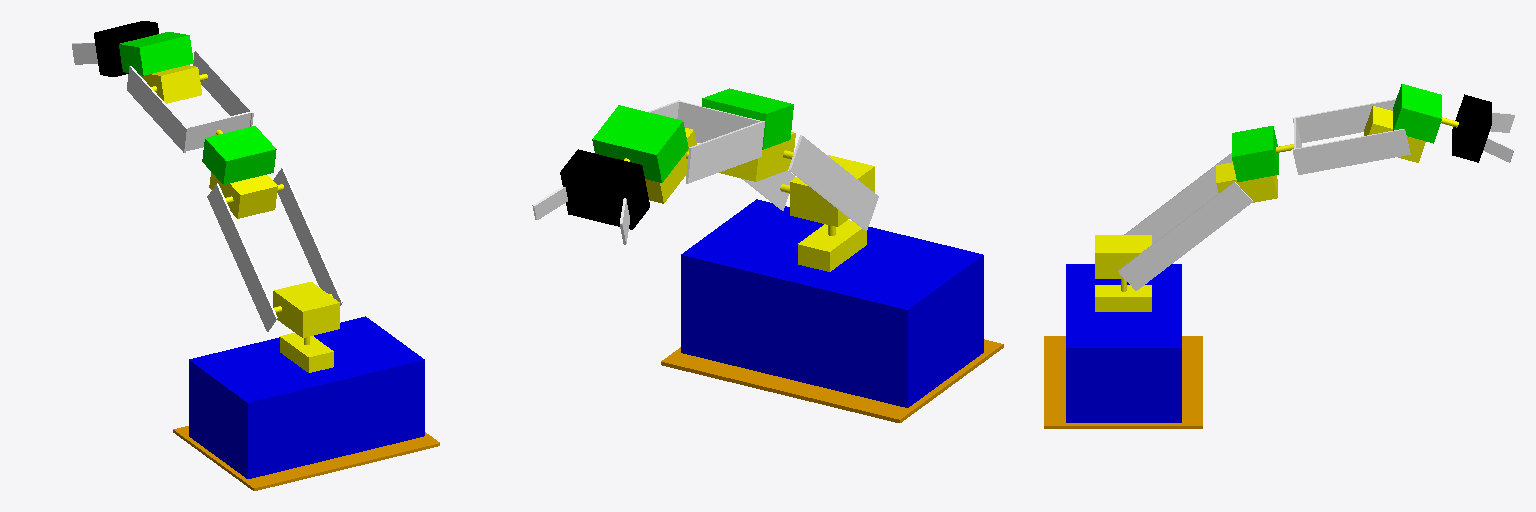
The robot description file, URDF, robot "six_arm":
<?xml version="1.0"?>
<robot name="six_arm"> 
<!--creat baselink-->
  <link name="base_link">
    <visual>
      <geometry>
        <box size="0.20 .15 .003"/>
      </geometry>
    </visual>
  </link>

<!--add dody-->
  <link name="body">
    <visual>
      <geometry>
       <box size="0.19 .11 .08"/>
      </geometry>
      <material name="blue">
          <color rgba="0 0 255 0.8"/>
      </material>  
    </visual>
  </link>  

  <joint name="base_to_body" type="fixed">
    <parent link="base_link"/>
    <child link="body"/>
    <origin xyz="0.0 0.0 0.04"/>
  </joint> 

<!-- shoulder stevo  XY -->
  <link name="shoulder_stevo">
    <visual>
      <geometry>
       <box size="0.054 .0403 .027"/>
      </geometry>
      <material name="black">
          <color rgba="1 1 0 1"/>
      </material>  
    </visual>
  </link> 

 <joint name="body_to_left_shoulder_stevo" type="fixed">
    <parent link="body"/>
    <child link="shoulder_stevo"/>
    <!--origin rpy="1.57075 0 1.57075" xyz="0.04 0.035 0.026"/ -->
    <origin rpy="1.57075 0 1.57075" xyz="0 0 0.036"/>
    <!-- origin rpy="1.57075 0 0" xyz="0.0 0.0 0.026" -->
 </joint>  

<!-- shoulder stevo axis XY -->
  <link name="shoulder_stevo_axis">
    <visual>
      <geometry>
       <cylinder length=".04" radius="0.0029"></cylinder>
      </geometry>
      <material name="yellow">
          <color rgba="1 1 0 1"/>
      </material>  
    </visual>
  </link>

  <joint name="shoulder_stevo_to_axis" type="revolute">
    <axis xyz="0 0 1"/> 
    <parent link="shoulder_stevo"/>
    <child link="shoulder_stevo_axis"/>
    <origin rpy="1.57075 0 0" xyz="0.0 0.027 0.0"/>
    <limit effort="100" velocity="100" lower="0" upper="3.1415926"/> 
    <joint_properties damping="0.0" friction="0.0"/>
  </joint>  

 <!-- shoulder stevo lift  XZ-->
  <link name="shoulder_stevo_lift">
    <visual>
      <geometry>
       <box size="0.054 .0403 .027"/>
      </geometry>
      <material name="black">
          <color rgba="1 1 0 1"/>
      </material>  
    </visual>
  </link> 

  <joint name="shoulder_stevo_axis_to_lift_stevo" type="fixed">
    <parent link="shoulder_stevo_axis"/>
    <child link="shoulder_stevo_lift"/>
    <!-- origin xyz="0.0 -0.01015 -0.028"/ -->
   <origin xyz="0 0 -0.028"/>
  </joint>

 <!-- shoulder stevo lift  axis XZ-->
  <link name="shoulder_stevo_lift_axis">
    <visual>
      <geometry>
       <cylinder length=".0704" radius="0.0029"></cylinder>
      </geometry>
      <material name="yellow">
          <color rgba="1 1 0 1"/>
      </material>  
    </visual>
  </link>

  <joint name="shoulder_stevo_lift_to_axis" type="continuous">
    <axis xyz="0 0 1"/> 
    <parent link="shoulder_stevo_lift"/>
    <child link="shoulder_stevo_lift_axis"/>
    <origin rpy="1.57075 0.7 0" xyz="0.0135 0.0 0.0"/>
    <limit effort="100" velocity="100"/> 
    <joint_properties damping="0.0" friction="0.0"/>
  </joint>     

<!-- big arm -->
  <!-- eft side-->
  <link name="big_arm_up">
    <visual>
      <geometry>
       <box size="0.145 .027 .002"/>
      </geometry>
      <material name="sliver">
          <color rgba="223 223 223 1"/>
      </material>  
    </visual>
  </link> 

 <joint name="shoulder_stevo_lift_axis_to_left_big_arm" type="fixed">
    <parent link="shoulder_stevo_lift_axis"/>
    <child link="big_arm_up"/>
    <!-- origin xyz="0.059 0.0 -0.035"/ -->
    <origin rpy="0 0 0" xyz="0.059 0.0 -0.035"/>
  </joint>  

 <!-- right side-->
  <link name="big_arm_down">
    <visual>
      <geometry>
       <box size="0.145 .027 .002"/>
      </geometry>
      <material name="sliver">
          <color rgba="223 223 223 1"/>
      </material>  
    </visual>
  </link> 

 <joint name="big_arm_up_to_left_big_arm_down" type="fixed">
    <parent link="big_arm_up"/>
    <child link="big_arm_down"/>
    <origin xyz="0.0 0.0 0.07"/>
  </joint>   


<!-- arm stevo-->

  <link name="arm_stevo_axis">
    <visual>
      <geometry>
       <cylinder length=".0704" radius="0.0029"></cylinder>
      </geometry>
      <material name="yellow">
          <color rgba="1 1 0 1"/>
      </material>  
    </visual>
  </link>

  <joint name="big_arm_up_to_axis" type="revolute">
    <axis xyz="0 0 1"/> 
    <parent link="big_arm_up"/>
    <child link="arm_stevo_axis"/>
    <origin rpy="0 0 0.5" xyz="0.059 0.0 0.0352"/>
    <limit effort="100" velocity="100" lower="0" upper="3.1415926"/> 
    <joint_properties damping="0.0" friction="0.0"/>
  </joint>  

  <link name="arm_stevo">
    <visual>
      <geometry>
       <box size="0.054 .027 .0403"/>
      </geometry>
      <material name="black">
          <color rgba="1 1 0 1"/>
      </material>  
    </visual>
  </link> 

 <joint name="big_arm_up_to_axis_to_arm_stevo" type="fixed">
    <parent link="arm_stevo_axis"/>
    <child link="arm_stevo"/>
    <origin xyz="0.0135 0.0 0.0"/>
  </joint>  

<!-- small arm -->



 <!-- small arm stering servo-->
   <link name="small_arm_run_stevo">
    <visual>
      <geometry>
       <box size="0.054 .027 .0403"/>
      </geometry>
      <material name="green">
          <color rgba="0 255 0 1 "/>
      </material>  
    </visual>
  </link> 

 <joint name="arm_stevo_to_arm_run_stevo" type="fixed">
    <parent link="arm_stevo"/>
    <child link="small_arm_run_stevo"/>
    <origin rpy="0 1.57075 0" xyz="0.0135 -0.027 0.0"/>
  </joint>   

  <link name="small_arm_run_stevo_axis">
    <visual>
      <geometry>
       <cylinder length=".04" radius="0.0029"></cylinder>
      </geometry>
      <material name="yellow">
          <color rgba="1 1 0 1"/>
      </material>  
    </visual>
  </link>

  <joint name="small_arm_run_stevo_to_axis" type="revolute">
    <axis xyz="0 0 1"/> 
    <parent link="small_arm_run_stevo"/>
    <child link="small_arm_run_stevo_axis"/>
    <!-- origin rpy="0 0 0" xyz="0.0135 0 0.020"/ -->
    <origin rpy="0 0 0" xyz="0 0 0.020"/>
    <limit effort="100" velocity="100" lower="0" upper="3.1415926"/> 
    <joint_properties damping="0.0" friction="0.0"/>
  </joint> 





 <!-- left side-->
  <link name="small_arm_up">
    <visual>
      <geometry>
       <box size="0.10875 .027 .002"/>
      </geometry>
      <material name="sliver">
          <color rgba="223 223 223 1"/>
      </material>  
    </visual>
  </link> 

 <joint name="arm_run_stevo_axis_to_left_small_arm_up" type="fixed">
    <parent link="small_arm_run_stevo_axis"/>
    <child link="small_arm_up"/>
    <!-- origin rpy="0 -1.57075 0" xyz="0.073 0.0 -0.035"/ -->
    <origin rpy="0 -1.57075 0" xyz="0.035 0 0.073"/>
  </joint>  

  <!-- right side-->
  <link name="small_arm_down">
    <visual>
      <geometry>
       <box size="0.10875 .027 .002"/>
      </geometry>
      <material name="sliver">
          <color rgba="223 223 223 1"/>
      </material>  
    </visual>
  </link> 

 <joint name="small_arm_up_to_small_arm_down" type="fixed">
    <parent link="small_arm_up"/>
    <child link="small_arm_down"/>
    <origin xyz="0.0 0.0 0.07"/>
  </joint>  

 <!-- middle side-->
  <link name="small_arm_middle">
    <visual>
      <geometry>
       <box size="0.07 .027 .002"/>
      </geometry>
      <material name="sliver">
          <color rgba="223 223 223 1"/>
      </material>  
    </visual>
  </link> 

 <joint name="small_arm_up_to_small_arm_middle" type="fixed">
    <parent link="small_arm_up"/>
    <child link="small_arm_middle"/>
    <origin rpy="0 1.57075 0" xyz="-0.052 0.0 0.035"/>
  </joint> 

<!--wrist stevo-->
  <link name="wrist_stevo_axis">
    <visual>
      <geometry>
       <cylinder length=".0704" radius="0.0029"></cylinder>
      </geometry>
      <material name="yellow">
          <color rgba="1 1 0 1"/>
      </material>  
    </visual>
  </link>

  <joint name="small_arm_up_to_axis" type="revolute">
    <axis xyz="0 0 1"/> 
    <parent link="small_arm_up"/>
    <child link="wrist_stevo_axis"/>
    <origin rpy="0 0 0.5" xyz="0.0295 0.0 0.0352"/>
    <limit effort="100" velocity="100" lower="0" upper="3.1415926"/> 
    <joint_properties damping="0.0" friction="0.0"/>
  </joint>  

  <link name="wrist_stevo">
    <visual>
      <geometry>
       <box size="0.054 .027 .0403"/>
      </geometry>
      <material name="black">
          <color rgba="1 1 0 1"/>
      </material>  
    </visual>
  </link> 

 <joint name="small_arm_up_to_axis_to_axis_stevo" type="fixed">
    <parent link="wrist_stevo_axis"/>
    <child link="wrist_stevo"/>
    <origin xyz="0.0135 0.0 0.0"/>
  </joint> 

<!--wrist stering stevo-->
  <link name="wrist_run_stevo">
    <visual>
      <geometry>
       <box size="0.054 .027 .0403"/>
      </geometry>
      <material name="green">
          <color rgba="0 255 0 1 "/>
      </material>  
    </visual>
  </link> 

 <joint name="wrist_stevo_to_wrist_run_stevo" type="fixed">
    <parent link="wrist_stevo"/>
    <child link="wrist_run_stevo"/>
    <origin rpy="0 1.57075 0" xyz="0.0135 -0.027 0.0"/>
  </joint>   

  <link name="wrist_run_stevo_axis">
    <visual>
      <geometry>
       <cylinder length=".04" radius="0.0029"></cylinder>
      </geometry>
      <material name="yellow">
          <color rgba="1 1 0 1"/>
      </material>  
    </visual>
  </link>

  <joint name="wrist_run_stevo_to_axis" type="revolute">
    <axis xyz="0 0 1"/> 
    <parent link="wrist_run_stevo"/>
    <child link="wrist_run_stevo_axis"/>
    <!-- origin rpy="0 0 0" xyz="0.0135 0 0.020"/ -->
    <origin rpy="0 0 0" xyz="0 0 0.020"/>
    <limit effort="100" velocity="100" lower="0" upper="3.1415926"/> 
    <joint_properties damping="0.0" friction="0.0"/>
  </joint> 

<!-- hand run stevo -->
  <link name="hand_run_stevo">
    <visual>
      <geometry>
       <box size="0.054 .027 .0403"/>
      </geometry>
      <material name="black">
          <color rgba="0 0 0 1 "/>
      </material>  
    </visual>
  </link> 

 <joint name="wrist_run_stevo_axis_to_hand_run_stevo" type="fixed">
    <parent link="wrist_run_stevo_axis"/>
    <child link="hand_run_stevo"/>
    <origin rpy="1.57075 0 0" xyz="0.0 0.0 0.0335"/>
  </joint>  

 <link name="hand_run_stevo_axis">
    <visual>
      <geometry>
       <cylinder length=".04" radius="0.0029"></cylinder>
      </geometry>
      <material name="yellow">
          <color rgba="1 1 0 1"/>
      </material>  
    </visual>
  </link>

  <joint name="hand_run_stevo_to_hand_run_stevo_axis" type="revolute">
    <axis xyz="0 0 1"/> 
    <parent link="hand_run_stevo"/>
    <child link="hand_run_stevo_axis"/>
    <origin rpy="0 0 -0.4" xyz="0.02 0 0"/>
    <limit effort="100" velocity="100" lower="0" upper="0.8285"/> 
    <joint_properties damping="0.0" friction="0.0"/>
  </joint>    


 <link name="hand_run_stevo_axis_two">
    <visual>
      <geometry>
       <cylinder length=".04" radius="0.0029"></cylinder>
      </geometry>
      <material name="yellow">
          <color rgba="1 1 0 1"/>
      </material>  
    </visual>
  </link>

  <joint name="hand_run_stevo_to_hand_run_stevo_axis_two" type="revolute">
    <axis xyz="0 0 1"/> 
    <parent link="hand_run_stevo"/>
    <child link="hand_run_stevo_axis_two"/>
    <!-- origin rpy="0 0 0" xyz="0.0135 0 0.0135"/ -->
    <origin rpy="0 0 0.4" xyz="-0.02 0 0"/>
    <limit effort="100" velocity="100" lower="-0.8285" upper="0"/> 
    <joint_properties damping="0.0" friction="0.0"/>
  </joint>    




<!--finger-->
  <link name="finger1">
    <visual>
      <geometry>
       <box size="0.045 .0135 .002"/>
      </geometry>
      <material name="sliver">
          <color rgba="223 223 223 1"/>
      </material>  
    </visual>
  </link> 

 <joint name="hand_run_stevo_axis_to_finger1" type="fixed">
    <parent link="hand_run_stevo_axis"/>
    <child link="finger1"/>
    <origin rpy="1.57075 0 1.57075" xyz="0 0.021 0"/>
  </joint> 

  <link name="finger2">
    <visual>
      <geometry>
       <box size="0.045 .02 .002"/>
      </geometry>
      <material name="sliver">
          <color rgba="223 223 223 1"/>
      </material>  
    </visual>
  </link> 

 <joint name="hand_run_stevo_axis_two_to_finger2" type="fixed">
    <parent link="hand_run_stevo_axis_two"/>
    <child link="finger2"/>
    <origin rpy="1.57075 0 1.57075" xyz="0 0.021 0"/>
  </joint> 

</robot>

--- Render facts (derived) ---
3 views of the same robot in one strip: view 1: azimuth 30°, elevation 25°; view 2: azimuth 150°, elevation 25°; view 3: azimuth 270°, elevation 25° (orthographic).
Model six_arm with 24 links and 23 joints (7 revolute, 1 continuous, 15 fixed), rooted at base_link, posed all joints at 0.
Visible links, largest first — view 1: body, small_arm_run_stevo, base_link, shoulder_stevo_lift, wrist_run_stevo, big_arm_down, big_arm_up, arm_stevo, hand_run_stevo, small_arm_down, wrist_stevo, shoulder_stevo (+2 smaller); view 2: body, base_link, hand_run_stevo, wrist_run_stevo, big_arm_down, small_arm_down, small_arm_run_stevo, shoulder_stevo, shoulder_stevo_lift, small_arm_middle, arm_stevo, wrist_stevo (+2 smaller); view 3: body, base_link, big_arm_up, small_arm_up, big_arm_down, wrist_run_stevo, small_arm_run_stevo, small_arm_down, hand_run_stevo, shoulder_stevo_lift, shoulder_stevo, arm_stevo (+1 smaller).
Boxes of the visible links, <box> form: body: <box>189,316,424,478</box>; small_arm_run_stevo: <box>202,126,276,184</box>; base_link: <box>173,426,439,490</box>; shoulder_stevo_lift: <box>273,282,339,337</box>; wrist_run_stevo: <box>119,32,193,75</box>; big_arm_down: <box>207,183,277,331</box>; big_arm_up: <box>273,167,342,305</box>; arm_stevo: <box>209,172,277,218</box>; hand_run_stevo: <box>94,21,158,76</box>; small_arm_down: <box>127,66,188,152</box>; wrist_stevo: <box>140,65,201,103</box>; shoulder_stevo: <box>280,333,333,372</box>; body: <box>681,199,983,407</box>; base_link: <box>661,339,1003,422</box>; hand_run_stevo: <box>560,149,649,229</box>; wrist_run_stevo: <box>592,105,688,182</box>; big_arm_down: <box>788,135,878,230</box>; small_arm_down: <box>686,121,764,183</box>; small_arm_run_stevo: <box>702,88,793,149</box>; shoulder_stevo: <box>798,220,866,271</box>; shoulder_stevo_lift: <box>790,155,874,226</box>; small_arm_middle: <box>677,101,762,142</box>; arm_stevo: <box>719,132,795,181</box>; wrist_stevo: <box>645,128,696,203</box>; body: <box>1066,264,1181,422</box>; base_link: <box>1044,336,1202,428</box>; big_arm_up: <box>1118,182,1252,290</box>; small_arm_up: <box>1292,129,1410,174</box>; big_arm_down: <box>1124,153,1232,243</box>; wrist_run_stevo: <box>1393,84,1441,143</box>; small_arm_run_stevo: <box>1232,126,1278,181</box>; small_arm_down: <box>1292,99,1395,142</box>; hand_run_stevo: <box>1452,94,1491,162</box>; shoulder_stevo_lift: <box>1095,235,1151,278</box>; shoulder_stevo: <box>1095,285,1151,311</box>; arm_stevo: <box>1216,162,1277,202</box>.
Bounding box of the posed robot: 0.2 × 0.4464 × 0.3014 m (x, y, z).
Geometry: primitives only (box / cylinder / sphere), no mesh files.
